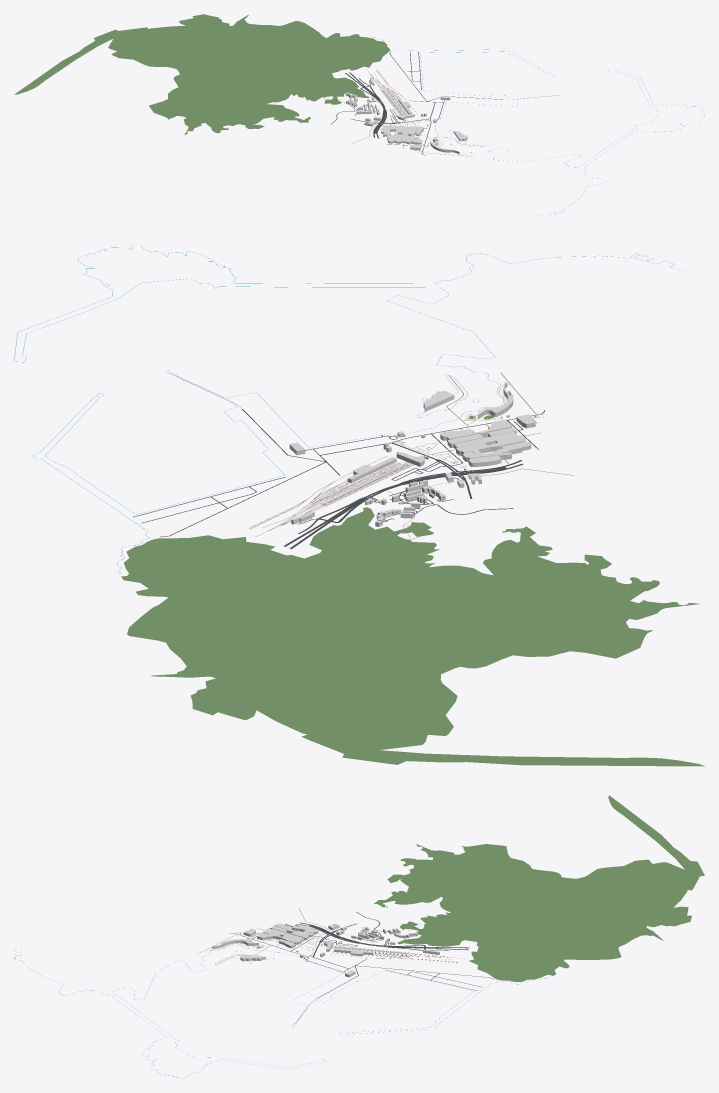
File: background.glb
3 views of the same model, one above another, from view 1: azimuth 30°, elevation 25°; view 2: azimuth 150°, elevation 25°; view 3: azimuth 270°, elevation 25° (orthographic). The views are drawn at different scales.
Parts seen in each view (by area): view 1: yeosu.osm_forest, yeosu.osm_buildings, roads_service, railways; view 2: yeosu.osm_forest, yeosu.osm_buildings, Mapped coastline, roads_service, railways, roads_primary; view 3: yeosu.osm_forest, yeosu.osm_buildings, roads_service.
Part boxes in pixels (x1,y1,x2,y2): yeosu.osm_forest: (14,14,390,134); yeosu.osm_buildings: (345,77,467,153); roads_service: (349,51,502,155); railways: (368,70,417,114); yeosu.osm_forest: (121,507,704,766); yeosu.osm_buildings: (289,382,536,526); Mapped coastline: (14,245,674,574); roads_service: (133,409,544,537); railways: (248,456,411,536); roads_primary: (318,460,523,522); yeosu.osm_forest: (374,795,704,981); yeosu.osm_buildings: (212,923,439,977); roads_service: (229,925,493,999).
Bounding box in the file's own units: 4048 × 20.24 × 4174.
